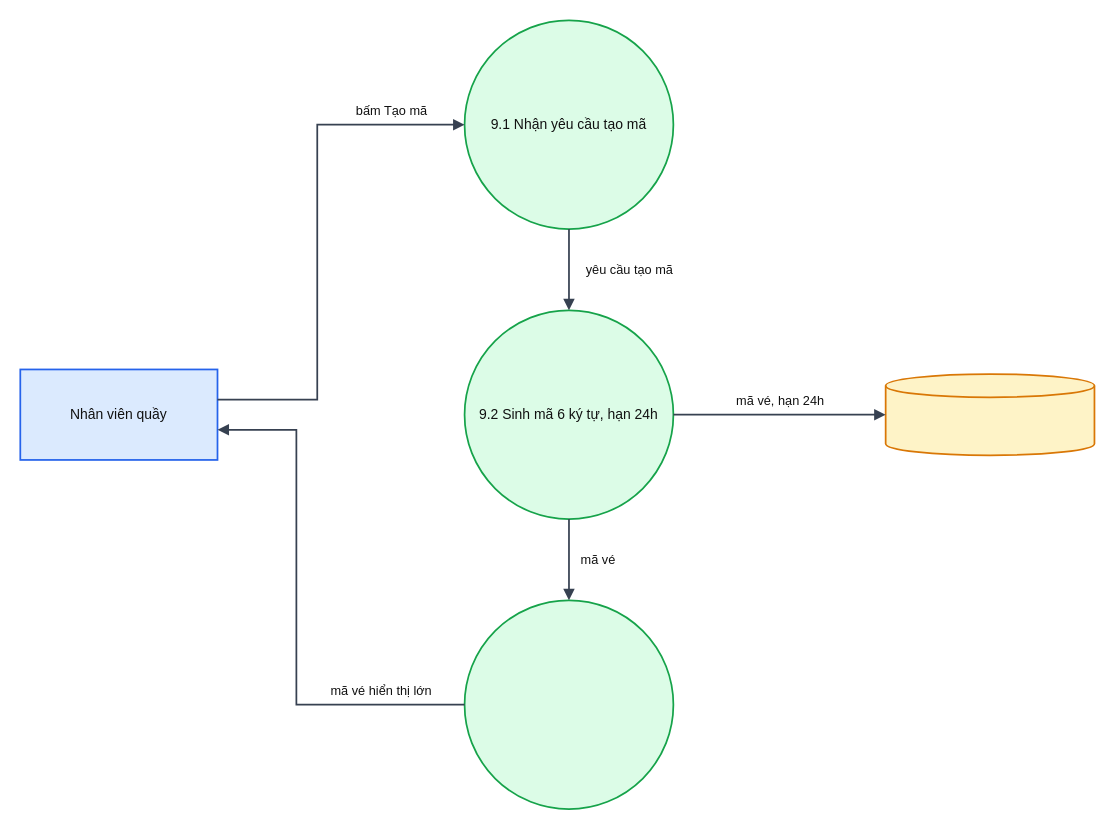
Image size: 1116x831. Some labels were removed from this diagram. The centre of each missing label's shape, as x and y in pixels:
9.3 Hiển thị mã vé: (568,704)
D3 Mã vé: (989,414)
